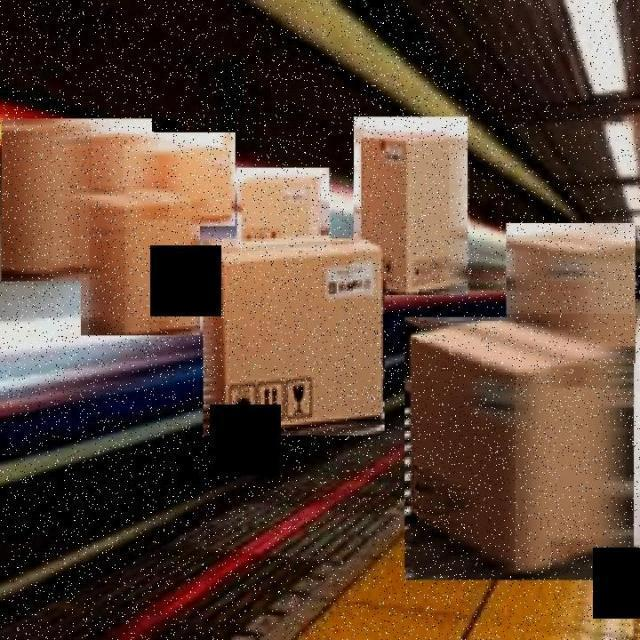box: (402, 314, 638, 585), (202, 236, 388, 439), (352, 117, 470, 300), (504, 220, 638, 368), (79, 185, 203, 338), (0, 117, 91, 286), (146, 132, 237, 228), (236, 167, 332, 250), (86, 117, 156, 205)
